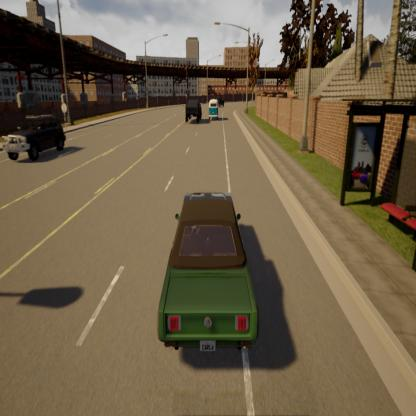Cars: (148, 181, 265, 366), (0, 110, 70, 164), (182, 96, 204, 126), (206, 97, 221, 123), (214, 93, 226, 109)
